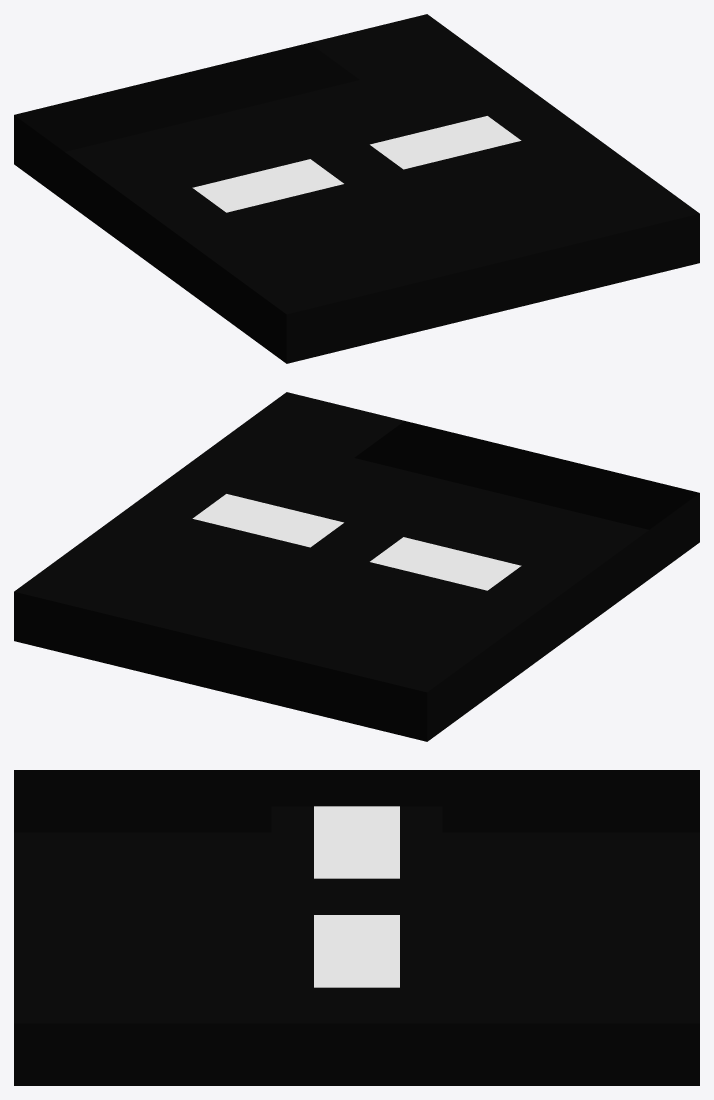
File: test-road-forward.fbx
The picture shows the model from 3 angles, top to bottom: view 1: azimuth 30°, elevation 25°; view 2: azimuth 150°, elevation 25°; view 3: azimuth 270°, elevation 25°; orthographic projection. The views are drawn at different scales.
Parts seen in each view (by area): view 1: Куб; view 2: Куб; view 3: Куб.
Part boxes in pixels (x1=…): Куб: x1=14, y1=14, x2=699, y2=363; Куб: x1=14, y1=392, x2=699, y2=741; Куб: x1=14, y1=770, x2=699, y2=1085.
Bounding box in the file's own units: 175 × 20 × 200.
